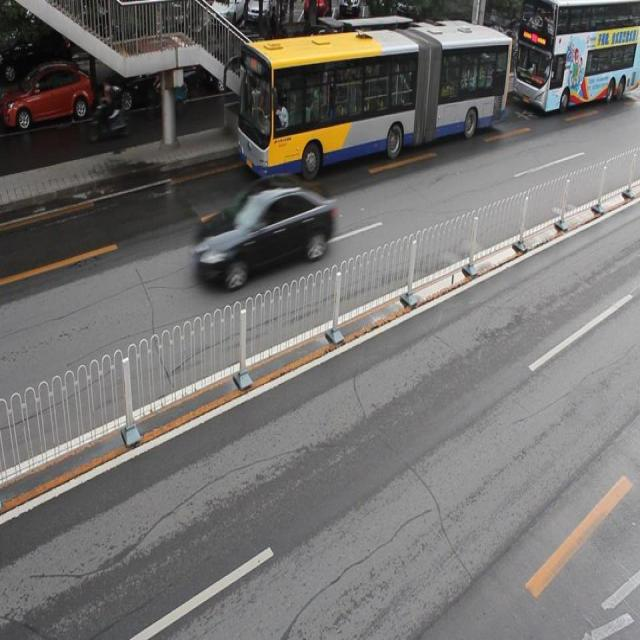car: (196, 172, 332, 284), (1, 62, 93, 129), (102, 44, 194, 105), (290, 26, 362, 84), (207, 32, 274, 94)
van: (239, 22, 510, 170), (515, 1, 640, 104)
